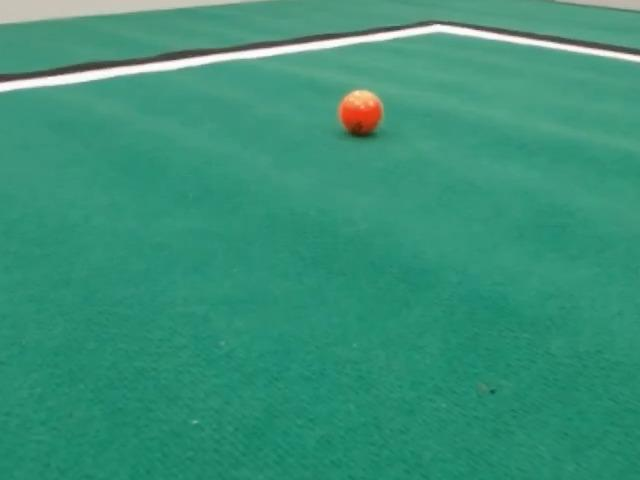Ball: (338, 90, 382, 135)
